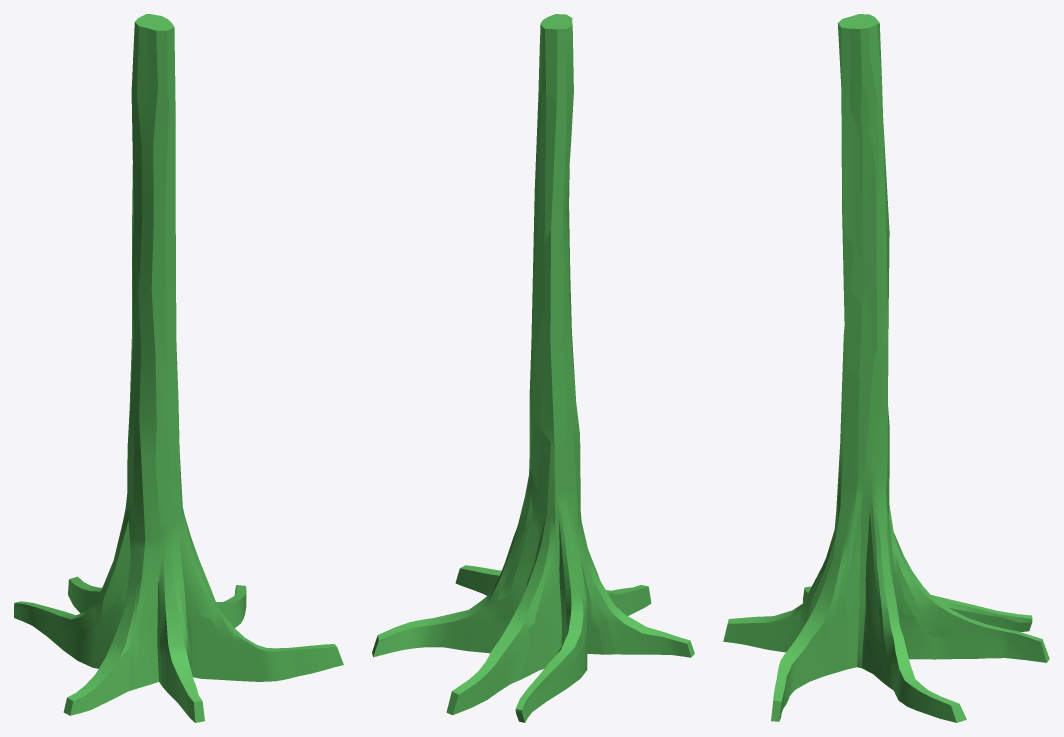
Rendered from jungle_big_tree_C.fbx.
The picture shows the model from 3 angles, left to right: view 1: azimuth 30°, elevation 25°; view 2: azimuth 150°, elevation 25°; view 3: azimuth 270°, elevation 25°; orthographic projection. The views are drawn at different scales.
Parts seen in each view (by area): view 1: jungle_big_tree_C; view 2: jungle_big_tree_C; view 3: jungle_big_tree_C.
Part boxes in pixels (<box>): jungle_big_tree_C: <box>14,14,343,722</box>; jungle_big_tree_C: <box>372,14,694,722</box>; jungle_big_tree_C: <box>723,14,1049,722</box>.
Size of the model in its own units: 339 by 805 by 375.
